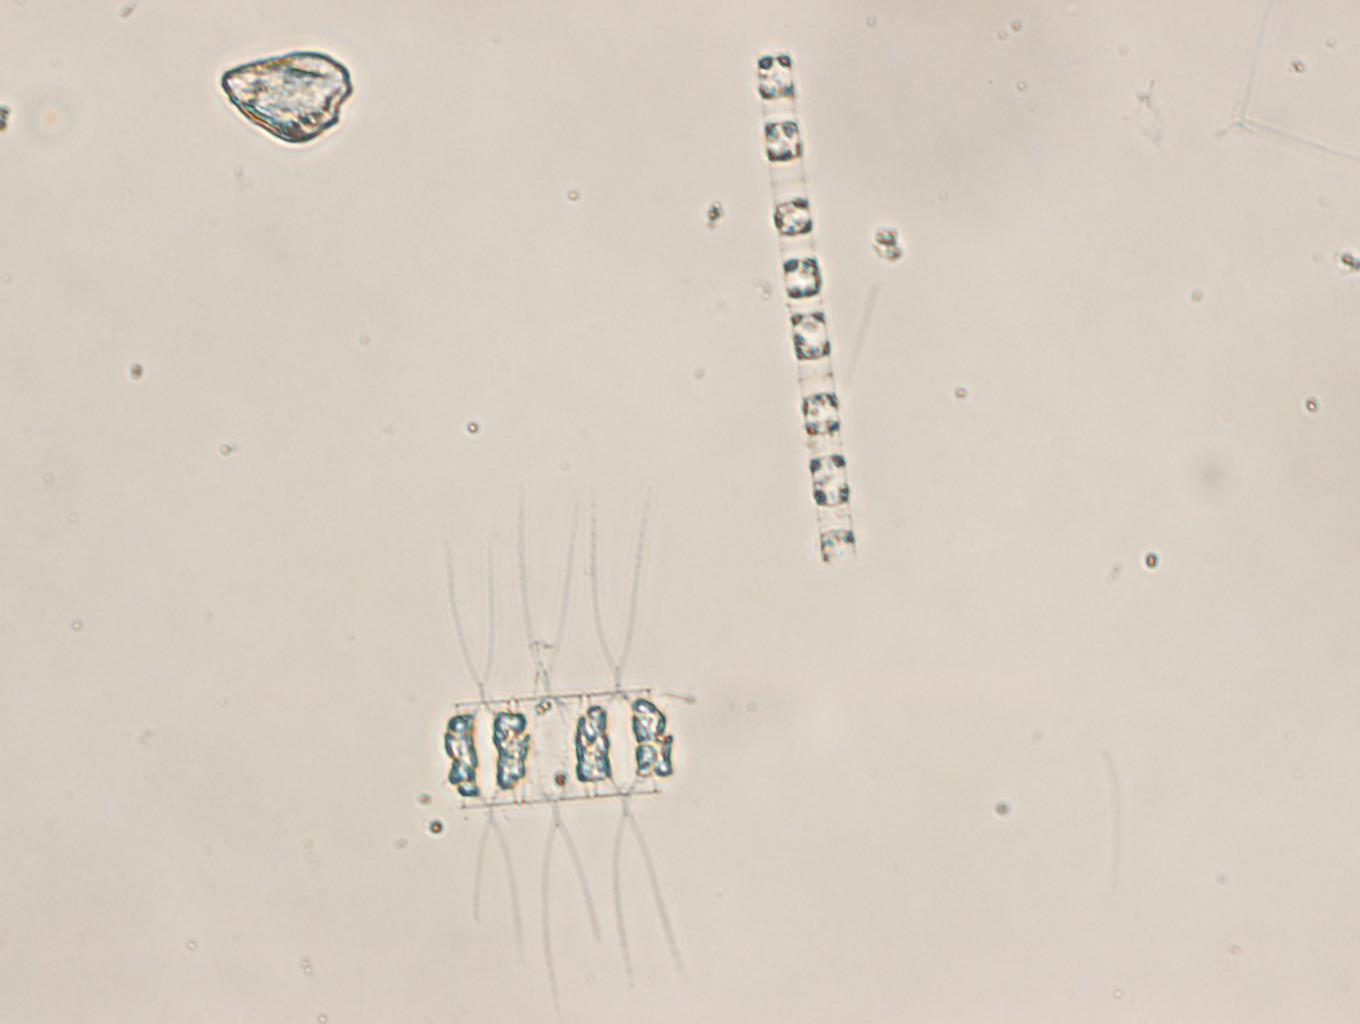chaetoceros: (439, 477, 688, 1008)
skeletonema: (755, 48, 859, 570)
